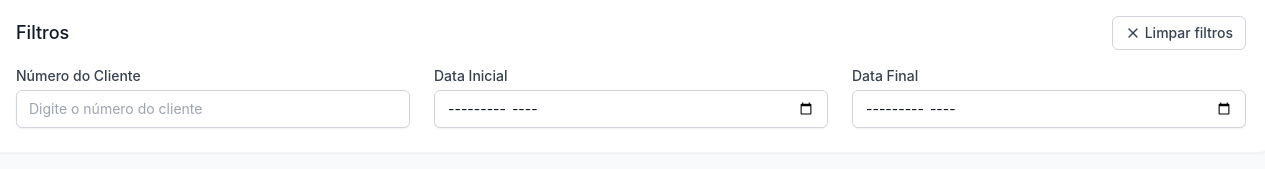
Test: DateRangeFilter › deve validar datas corretamente
Type "2024-02" into the field labelled "Data Inicial" at (631, 109), box x1=434 y1=90 x2=828 y2=128
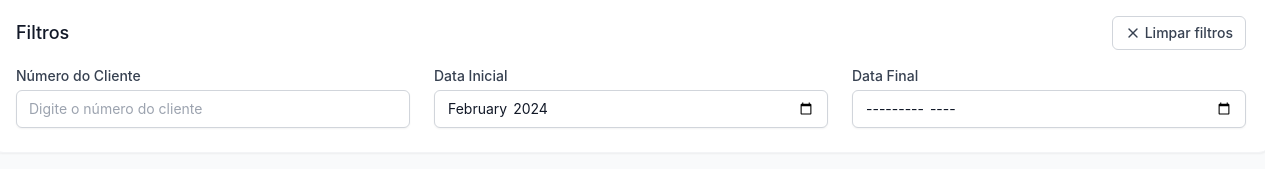
Type "2024-01" into the field labelled "Data Final" at (1049, 109), box x1=852 y1=90 x2=1246 y2=128
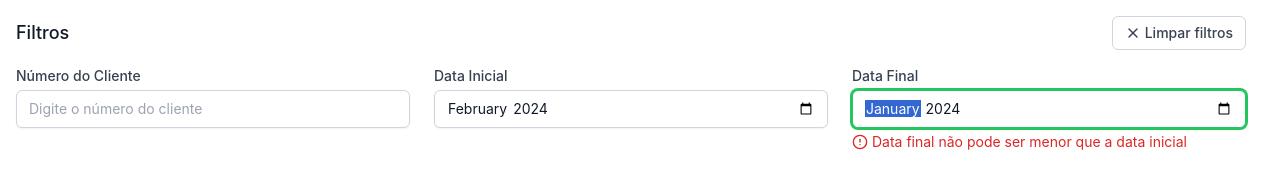
Now the text "Data final não pode ser menor que a data inicial" is shown, box x1=852 y1=132 x2=1246 y2=152
